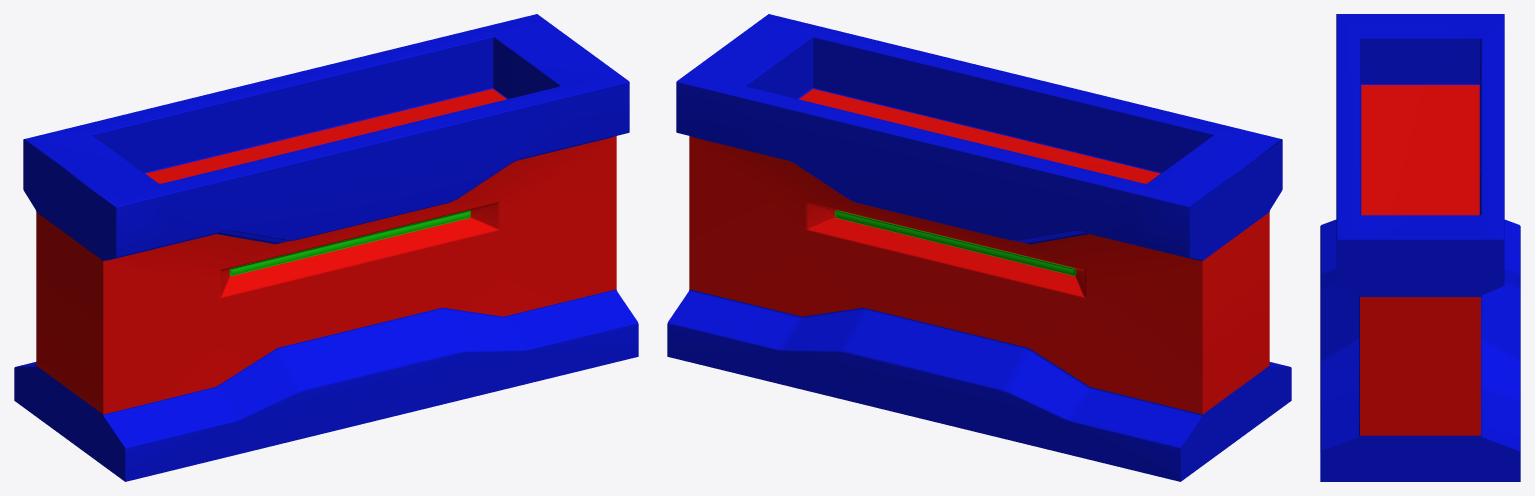
The model's file is Wall.fbx.
3 views of the same model, side by side, from view 1: azimuth 30°, elevation 25°; view 2: azimuth 150°, elevation 25°; view 3: azimuth 270°, elevation 25° (orthographic). The views are drawn at different scales.
Parts seen in each view (by area): view 1: Wall_V2.001; view 2: Wall_V2.001; view 3: Wall_V2.001.
Boxes of the visible parts, x1,y1,x2,y2 form: Wall_V2.001: (14,14,638,481); Wall_V2.001: (667,14,1291,481); Wall_V2.001: (1320,14,1520,481).
Bounding box in the file's own units: 1000 × 500 × 374.
